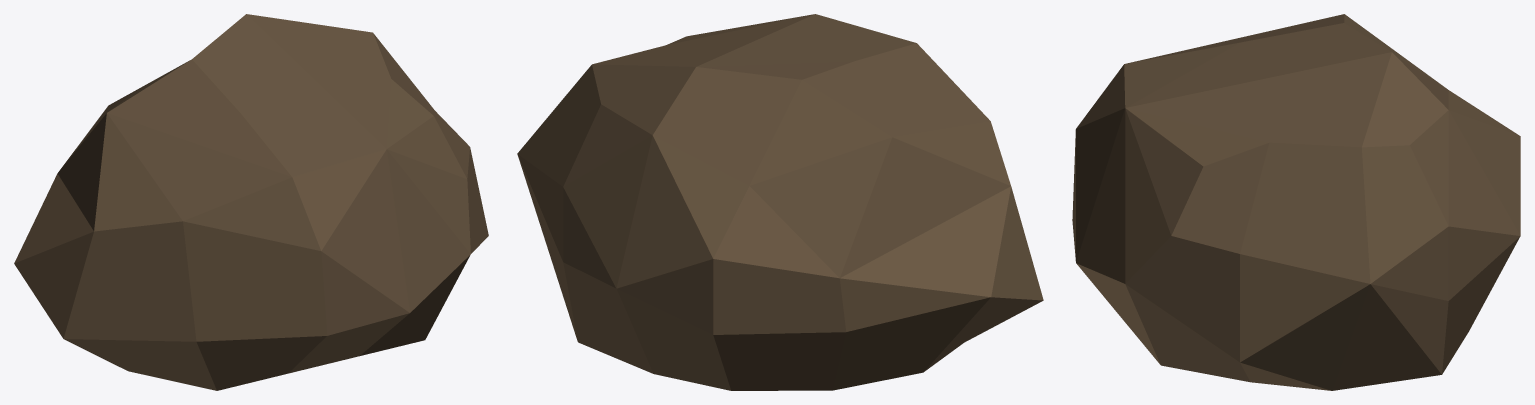
Rendered from Boulder-A04.fbx.
3 views of the same model, side by side, from view 1: azimuth 30°, elevation 25°; view 2: azimuth 150°, elevation 25°; view 3: azimuth 270°, elevation 25° (orthographic). The views are drawn at different scales.
Visible parts, largest first — view 1: Boulder-A04; view 2: Boulder-A04; view 3: Boulder-A04.
Part boxes in pixels (left/top/right/bottom): Boulder-A04: left=14, top=14, right=488, bottom=390; Boulder-A04: left=517, top=14, right=1043, bottom=390; Boulder-A04: left=1072, top=14, right=1520, bottom=390.
Size of the model in its own units: 145 by 84.16 by 123.
